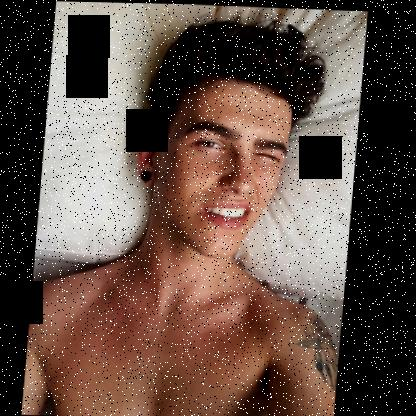Male: (130, 78, 295, 256)
